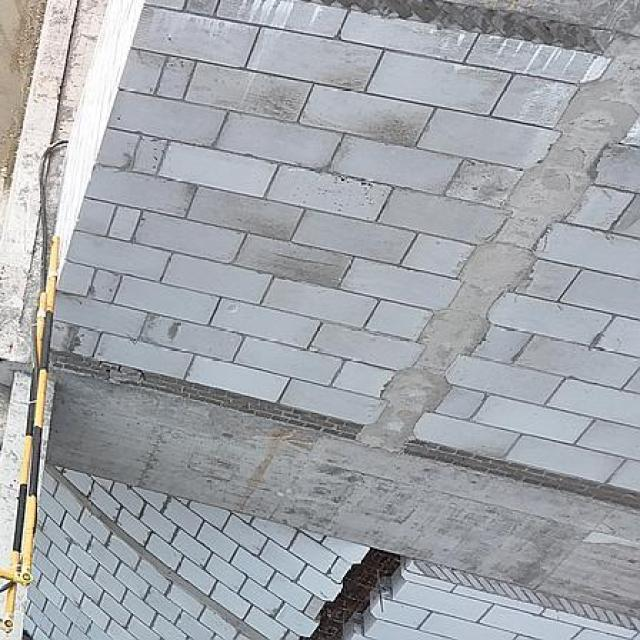edge_guardrail: (0, 235, 61, 640)
